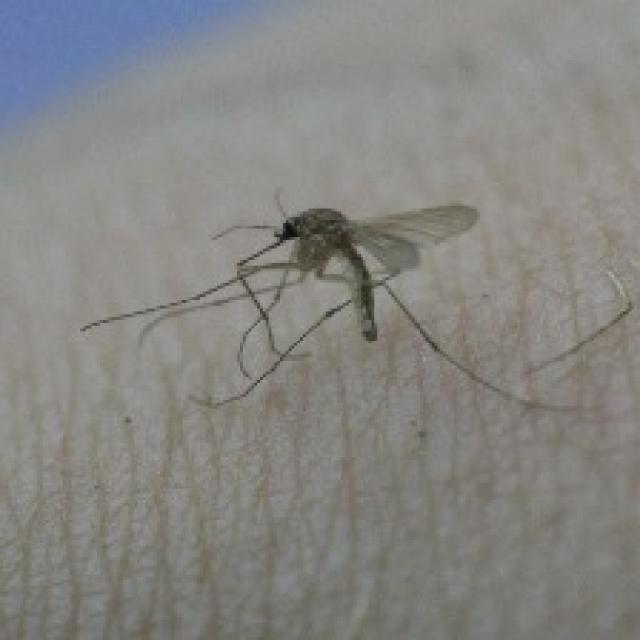culex: (77, 183, 634, 414)
